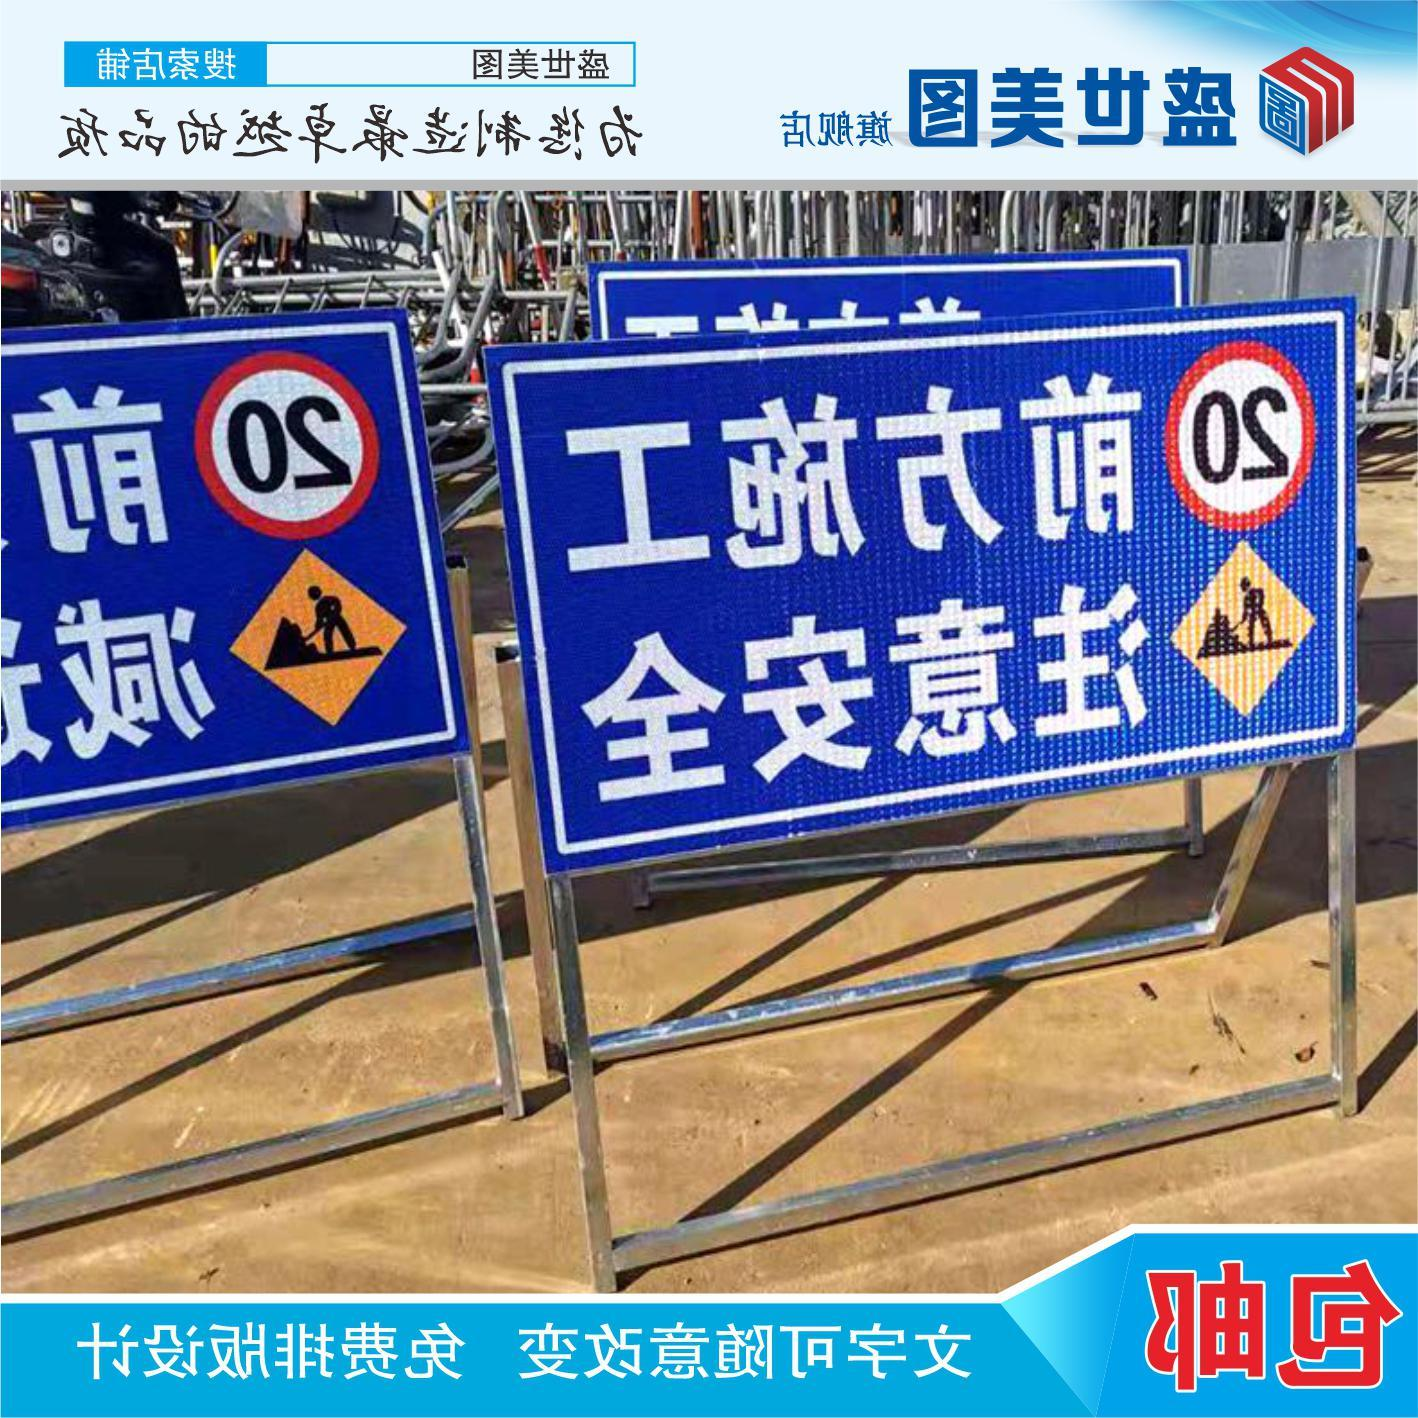sign: (505, 306, 1366, 888), (1, 319, 469, 840)
